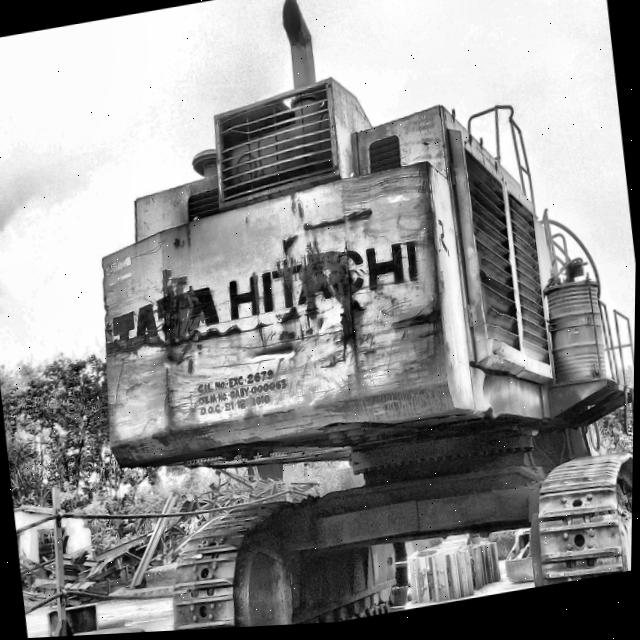excavator: (100, 6, 634, 632)
